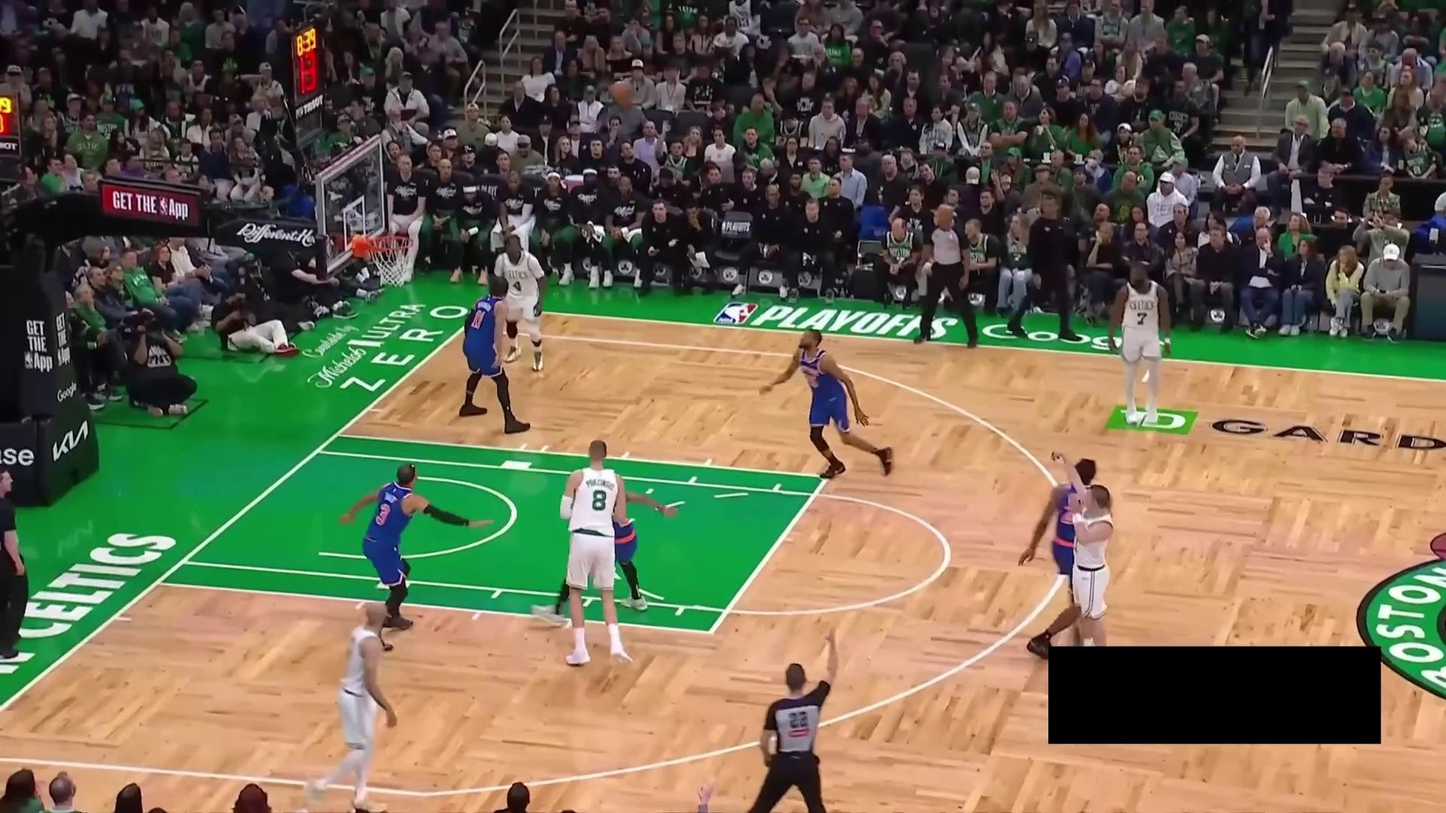ball: (612, 80, 634, 103)
number: (590, 487, 608, 513), (374, 502, 392, 527), (471, 307, 486, 329), (1137, 310, 1147, 326), (512, 279, 522, 294)
player: (335, 461, 493, 651), (299, 602, 401, 810), (760, 328, 893, 480), (534, 491, 678, 628), (559, 439, 634, 667), (1019, 457, 1097, 658), (1049, 450, 1113, 647), (458, 278, 531, 434), (1108, 260, 1171, 426), (493, 233, 551, 374)
referee: (749, 623, 845, 813), (912, 204, 979, 348), (0, 455, 35, 665)
rim: (365, 234, 415, 253)
